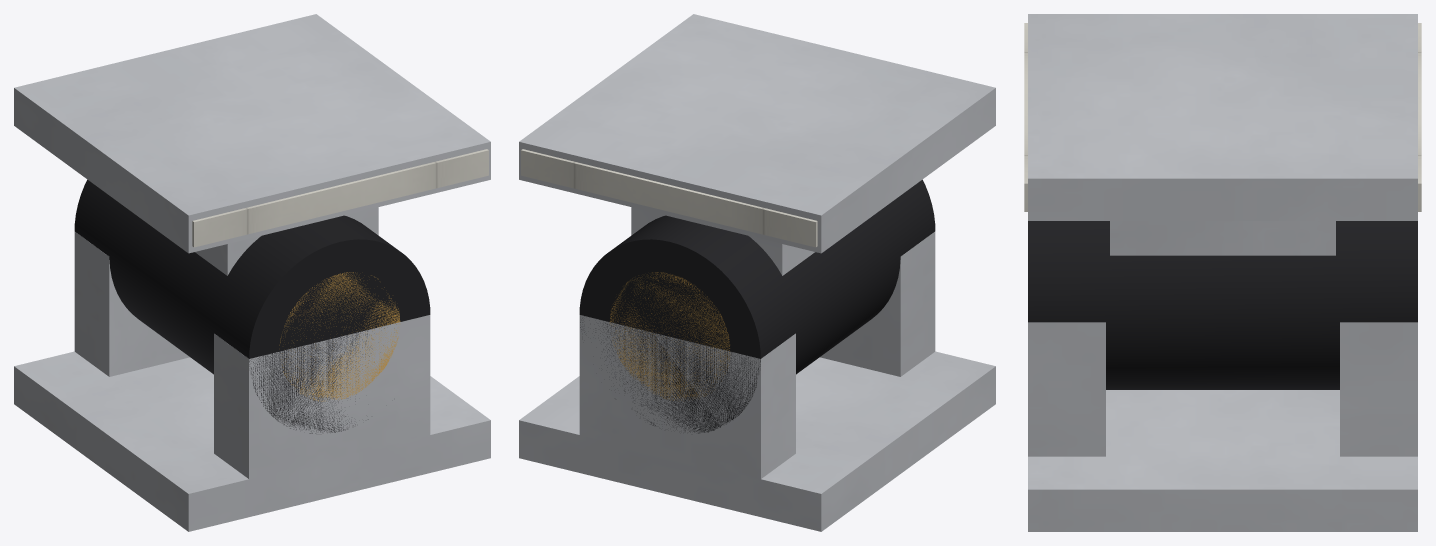
File: robo00_hinge_s.glb
3 renders of one model, left to right at view 1: azimuth 30°, elevation 25°; view 2: azimuth 150°, elevation 25°; view 3: azimuth 270°, elevation 25°, orthographic. The views are drawn at different scales.
Visible parts, largest first — view 1: base_block, half_b_block, motor, half_b_foil, motor_caps; view 2: base_block, half_b_block, motor, half_b_foil, motor_caps; view 3: half_b_block, base_block, motor, half_b_foil.
Part boxes in pixels (bbox=[...]): base_block: bbox=[14, 231, 490, 531]; half_b_block: bbox=[14, 14, 490, 275]; motor: bbox=[74, 179, 430, 433]; half_b_foil: bbox=[192, 149, 488, 247]; motor_caps: bbox=[279, 272, 400, 401]; base_block: bbox=[519, 231, 995, 531]; half_b_block: bbox=[519, 14, 995, 275]; motor: bbox=[579, 179, 935, 433]; half_b_foil: bbox=[521, 149, 817, 247]; motor_caps: bbox=[609, 272, 729, 400]; half_b_block: bbox=[1028, 14, 1417, 255]; base_block: bbox=[1028, 322, 1417, 531]; motor: bbox=[1028, 221, 1417, 389]; half_b_foil: bbox=[1024, 23, 1421, 211].
Size of the model in its own units: 0.4 by 0.4 by 0.408.
4 materials, 3 textured.
